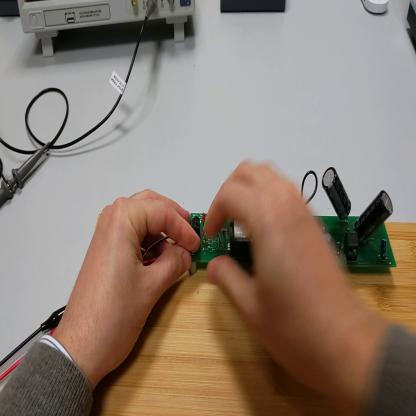hand: (202, 159, 358, 393), (68, 188, 198, 375)
high voltage board: (190, 166, 398, 269)
oscilloscope: (19, 2, 198, 57)
oscilloscope probe tip: (1, 142, 50, 212)
socket: (2, 2, 21, 18)
welder station: (404, 1, 416, 54)
working area: (92, 212, 416, 416)
